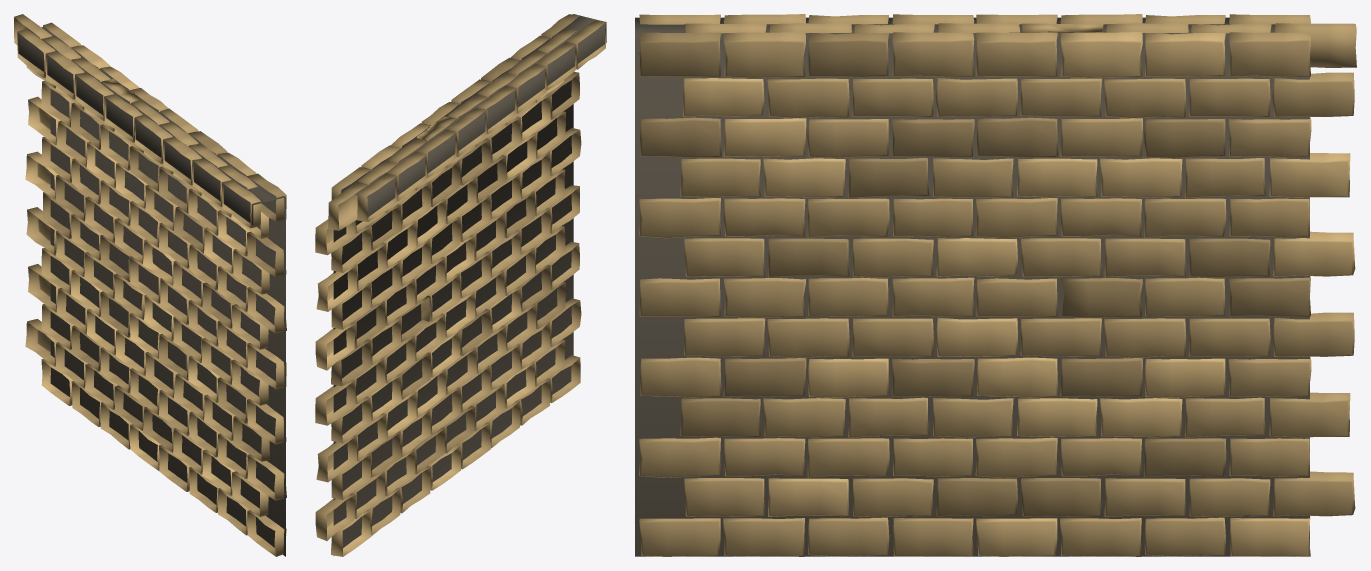
The model's file is NewWall1.fbx.
The picture shows the model from 3 angles, left to right: view 1: azimuth 30°, elevation 25°; view 2: azimuth 150°, elevation 25°; view 3: azimuth 270°, elevation 25°; orthographic projection. The views are drawn at different scales.
Parts seen in each view (by area): view 1: Plane; view 2: Plane; view 3: Plane.
Boxes of the visible parts, box(x1,y1,x2,y2) form: Plane: box(14, 14, 286, 556); Plane: box(315, 14, 606, 556); Plane: box(635, 14, 1356, 556).
Size of the model in its own units: 40.26 by 357 by 450.
